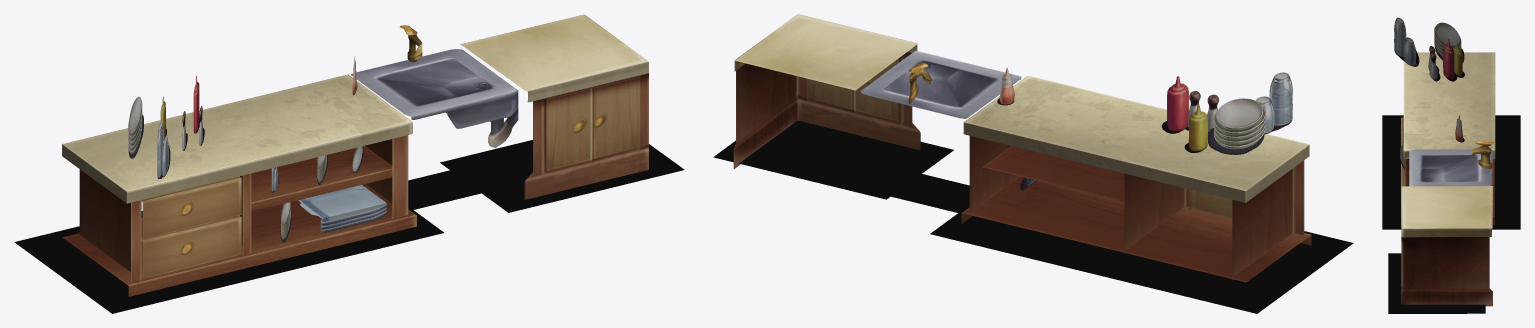
The model's file is K1_oldcupboard.FBX.
3 views of the same model, side by side, from view 1: azimuth 30°, elevation 25°; view 2: azimuth 150°, elevation 25°; view 3: azimuth 270°, elevation 25° (orthographic). The views are drawn at different scales.
Parts seen in each view (by area): view 1: oldcupboard_12, oldcupboard_16, oldcupboard_15, oldcupboard_yy02, oldcupboard_yy00, oldcupboard_13, oldcupboard_14, oldcupboard_11, oldcupboard_yy01, oldcupboard_00, oldcupboard_01; view 2: oldcupboard_12, oldcupboard_16, oldcupboard_yy02, oldcupboard_yy00, oldcupboard_15, oldcupboard_00, oldcupboard_yy01, oldcupboard_01, oldcupboard_05, oldcupboard_14, oldcupboard_06; view 3: oldcupboard_16, oldcupboard_12, oldcupboard_yy02, oldcupboard_15, oldcupboard_yy00, oldcupboard_01, oldcupboard_00, oldcupboard_05, oldcupboard_06, oldcupboard_04, oldcupboard_02.
Part boxes in pixels (<box>): oldcupboard_12: <box>62,74,416,296</box>; oldcupboard_16: <box>460,14,648,199</box>; oldcupboard_15: <box>351,25,518,147</box>; oldcupboard_yy02: <box>14,206,443,313</box>; oldcupboard_yy00: <box>440,140,684,212</box>; oldcupboard_13: <box>141,176,241,239</box>; oldcupboard_14: <box>141,215,241,278</box>; oldcupboard_11: <box>298,185,386,232</box>; oldcupboard_yy01: <box>408,170,481,209</box>; oldcupboard_00: <box>128,96,143,158</box>; oldcupboard_01: <box>157,121,170,179</box>; oldcupboard_12: <box>961,75,1311,282</box>; oldcupboard_16: <box>733,14,920,168</box>; oldcupboard_yy02: <box>930,205,1353,313</box>; oldcupboard_yy00: <box>713,120,953,199</box>; oldcupboard_15: <box>860,50,1021,118</box>; oldcupboard_00: <box>1208,98,1265,154</box>; oldcupboard_yy01: <box>891,174,969,212</box>; oldcupboard_01: <box>1255,72,1292,134</box>; oldcupboard_05: <box>1161,76,1188,133</box>; oldcupboard_14: <box>1189,189,1232,218</box>; oldcupboard_06: <box>1184,105,1207,153</box>; oldcupboard_16: <box>1401,186,1493,306</box>; oldcupboard_12: <box>1401,52,1495,224</box>; oldcupboard_yy02: <box>1382,115,1520,229</box>; oldcupboard_15: <box>1409,141,1493,186</box>; oldcupboard_yy00: <box>1388,253,1485,313</box>; oldcupboard_01: <box>1394,17,1419,66</box>; oldcupboard_00: <box>1434,22,1464,62</box>; oldcupboard_05: <box>1443,39,1457,81</box>; oldcupboard_06: <box>1453,43,1464,77</box>; oldcupboard_04: <box>1429,52,1440,81</box>; oldcupboard_02: <box>1455,115,1464,142</box>.
Bounding box in the file's own units: 192 × 55.84 × 56.51.
